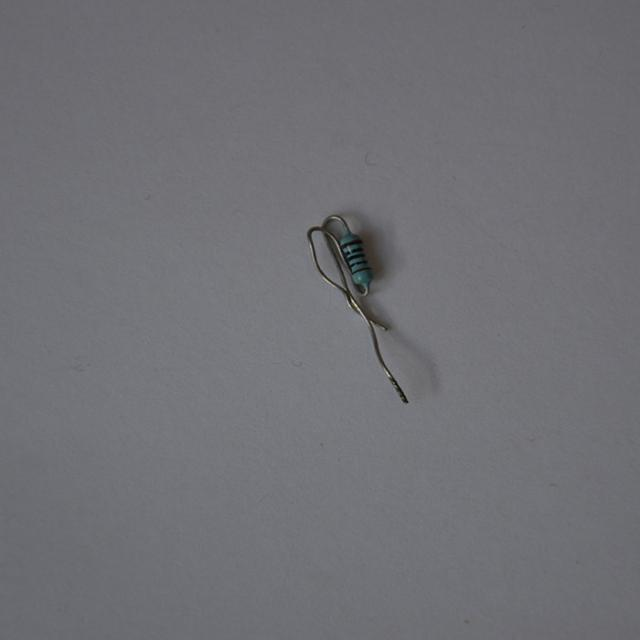Resistor Carbon-Film: (335, 230, 381, 288)
